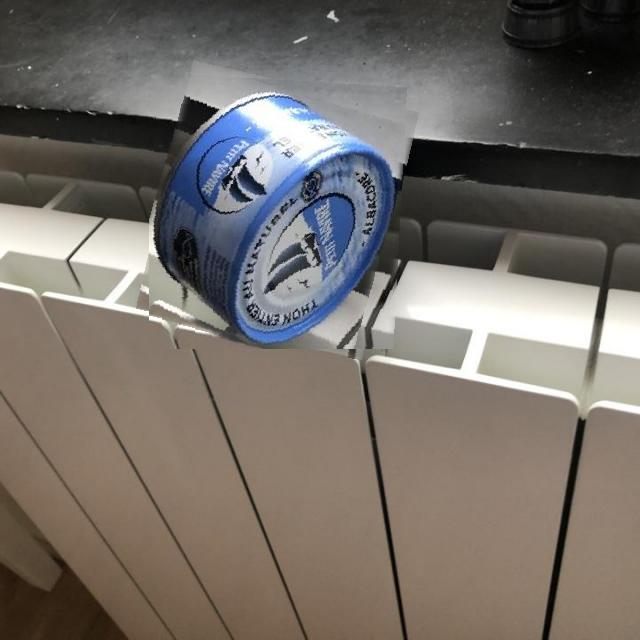recyclable: (149, 72, 407, 349)
